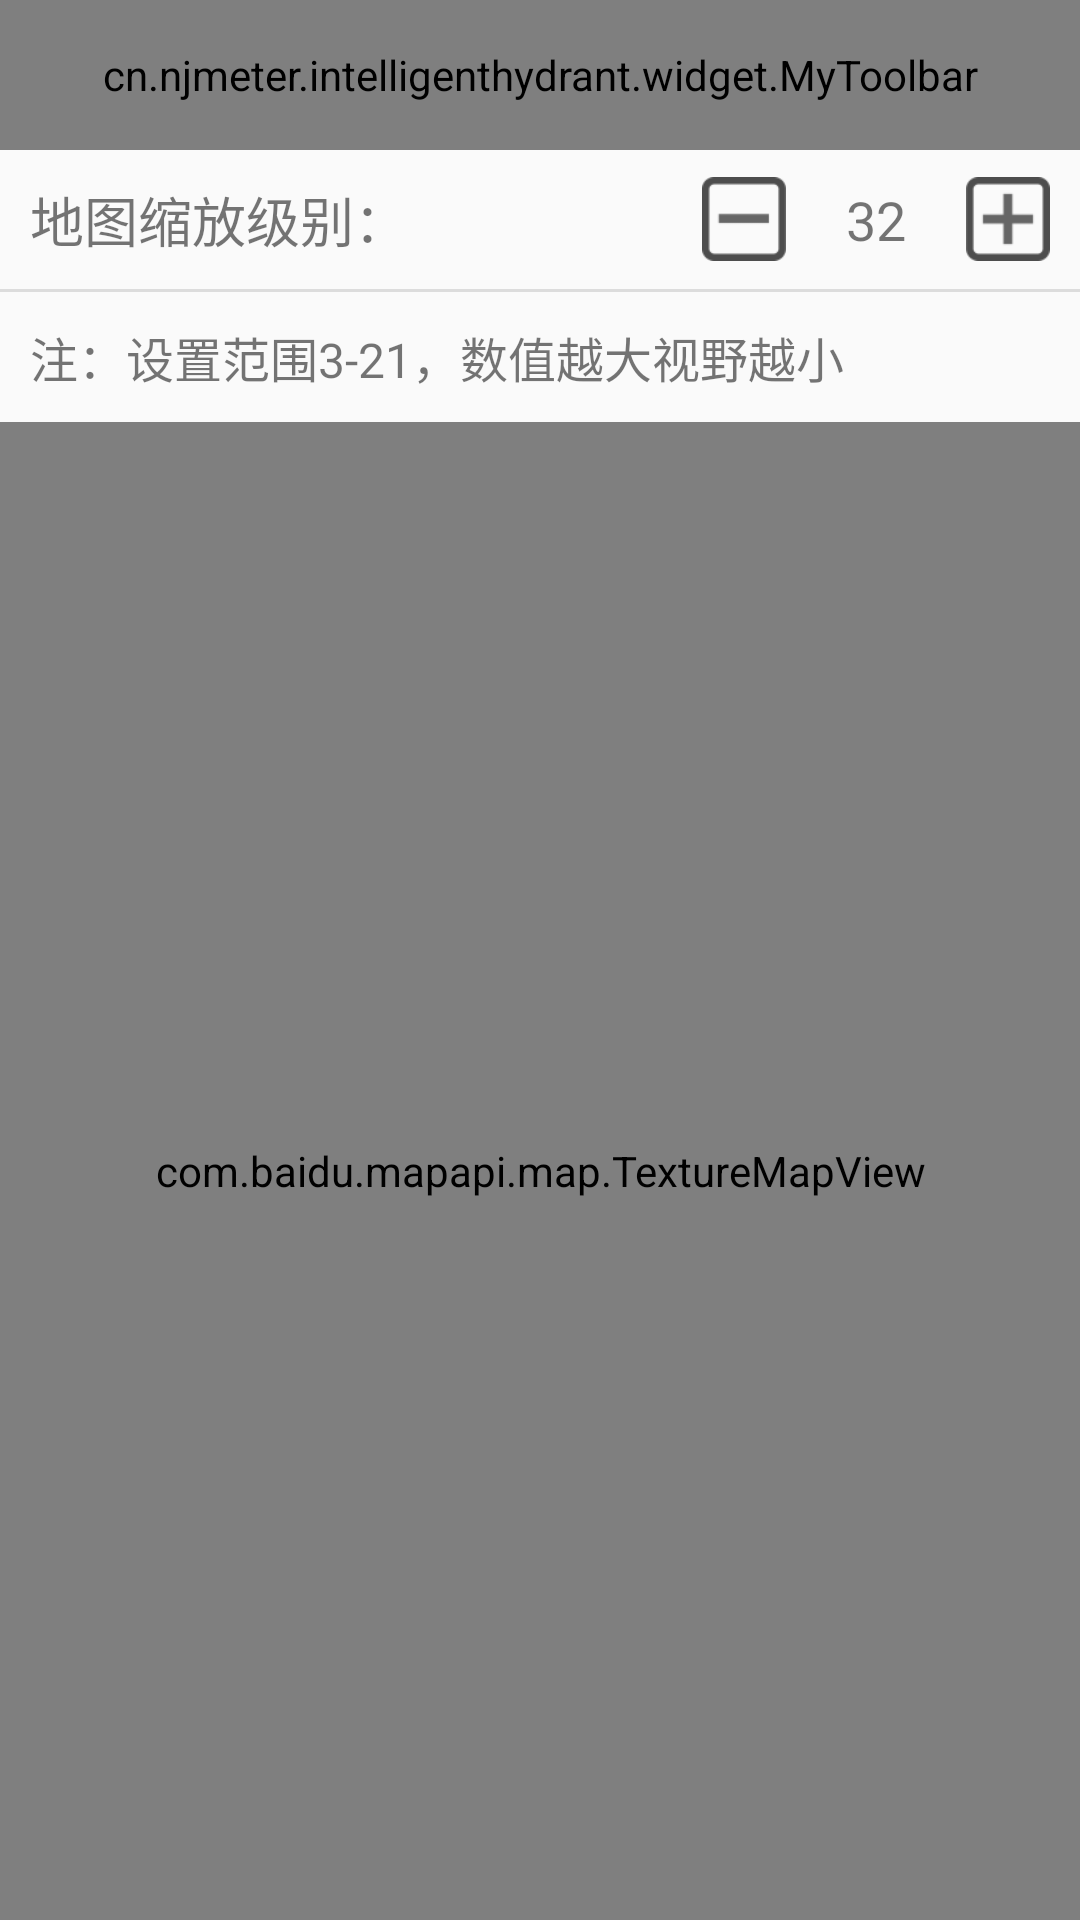

Locate icon controls on the screen. Image size 1080×1920, boxes as (x1,y1,x2,y2).
increase: (966,177,1050,261)
reduce: (702,177,786,261)
